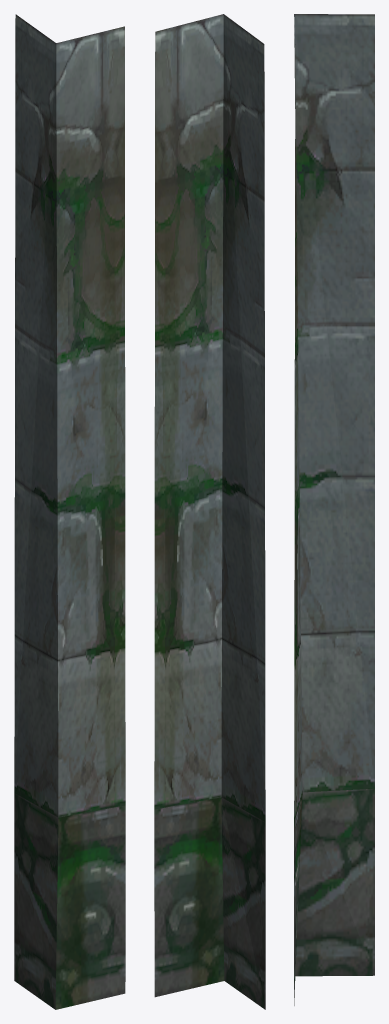
The model's file is stemple_wall_convex_08.fbx.
3 views of the same model, side by side, from view 1: azimuth 30°, elevation 25°; view 2: azimuth 210°, elevation 25°; view 3: azimuth 270°, elevation 25° (orthographic).
Parts seen in each view (by area): view 1: obj1.103; view 2: obj1.103; view 3: obj1.103.
Boxes of the visible parts, x1,y1,x2,y2 form: obj1.103: (14, 14, 125, 1009); obj1.103: (154, 14, 265, 1009); obj1.103: (294, 14, 374, 1005).
Bounding box in the file's own units: 0.42 × 5.5 × 0.4195.
